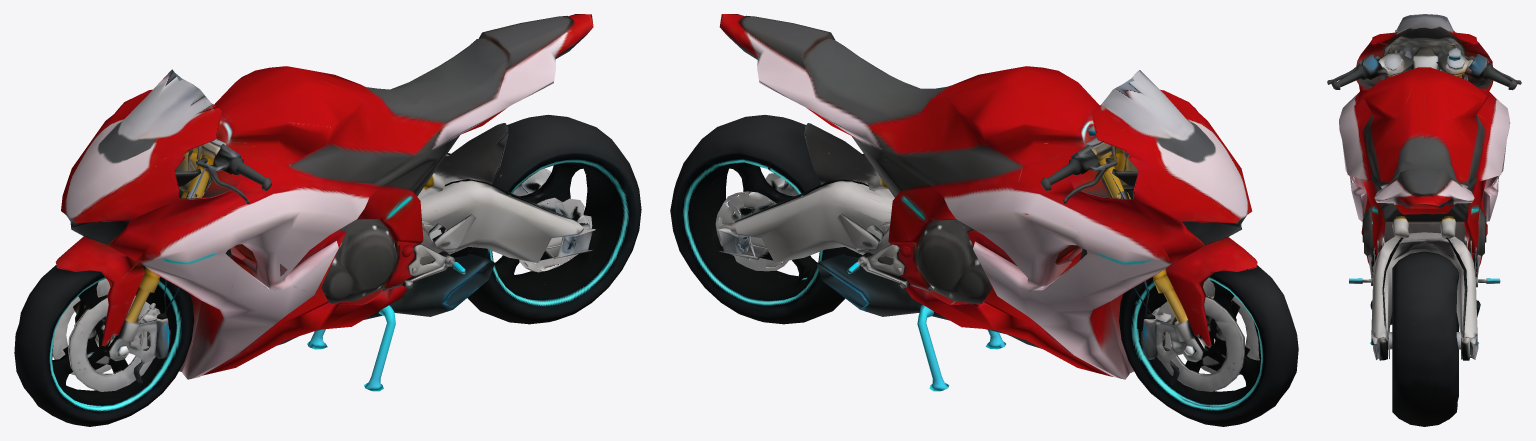
Rendered from motorcycle.glb.
The picture shows the model from 3 angles, left to right: view 1: azimuth 30°, elevation 25°; view 2: azimuth 150°, elevation 25°; view 3: azimuth 270°, elevation 25°; orthographic projection. The views are drawn at different scales.
Visible parts, largest first — view 1: geometry_0; view 2: geometry_0; view 3: geometry_0.
Boxes of the visible parts, <box> form: geometry_0: <box>14,14,641,426</box>; geometry_0: <box>670,14,1298,426</box>; geometry_0: <box>1327,14,1521,426</box>.
Bounding box in the file's own units: 0.96 × 0.4878 × 0.3247.
Materials: 1 (1 with a texture image).
